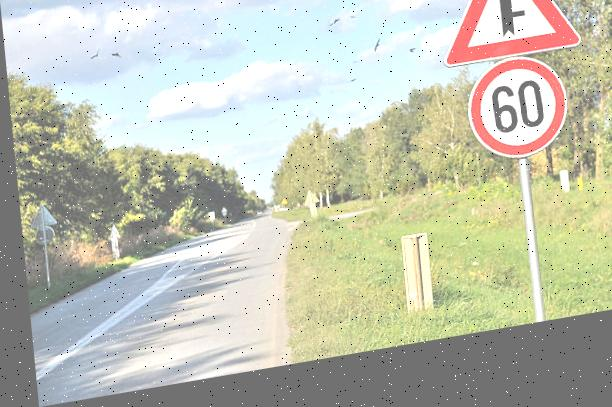Speed Limit -60-: (456, 66, 568, 183)
